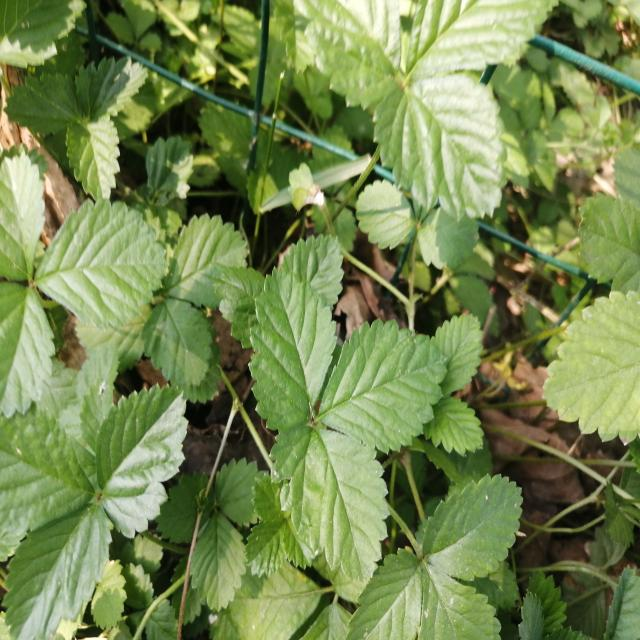Mock_strawberry: (240, 260, 433, 577)
